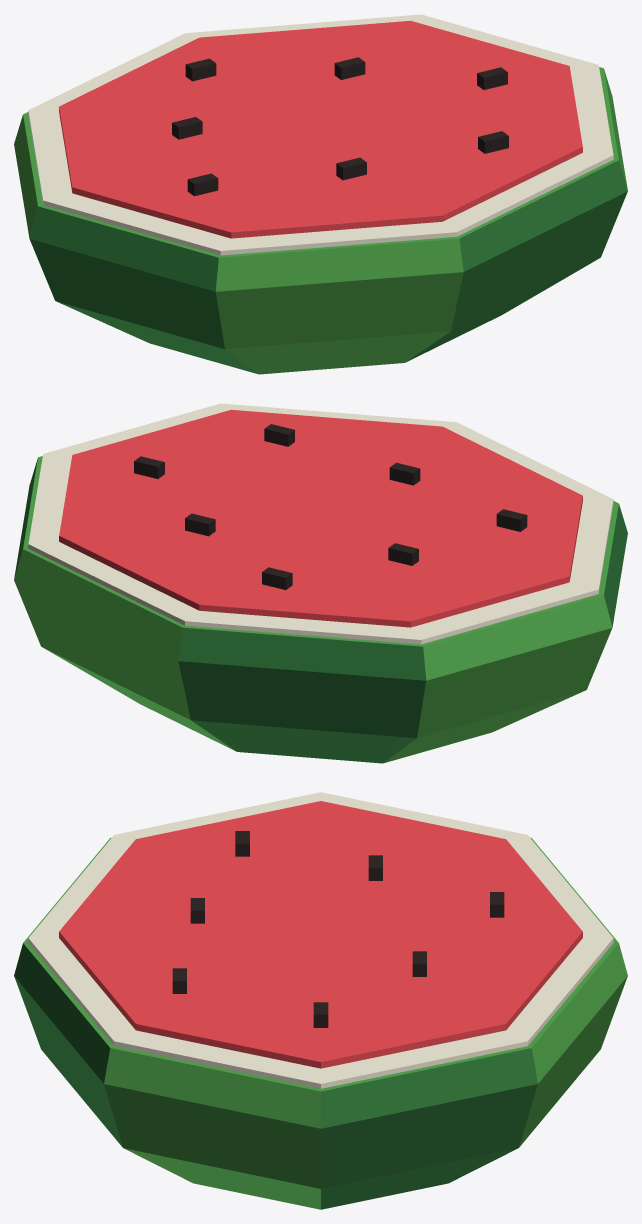
The model's file is watermelon-crop.glb.
3 views of the same model, one above another, from view 1: azimuth 30°, elevation 25°; view 2: azimuth 150°, elevation 25°; view 3: azimuth 270°, elevation 25° (orthographic). The views are drawn at different scales.
Visible parts, largest first — view 1: watermelon-crop; view 2: watermelon-crop; view 3: watermelon-crop.
Part boxes in pixels (bbox=[...]): watermelon-crop: bbox=[14, 14, 627, 374]; watermelon-crop: bbox=[14, 403, 627, 763]; watermelon-crop: bbox=[14, 792, 627, 1209].
Size of the model in its own units: 0.4012 by 0.135 by 0.34.
1 material, 1 textured.
